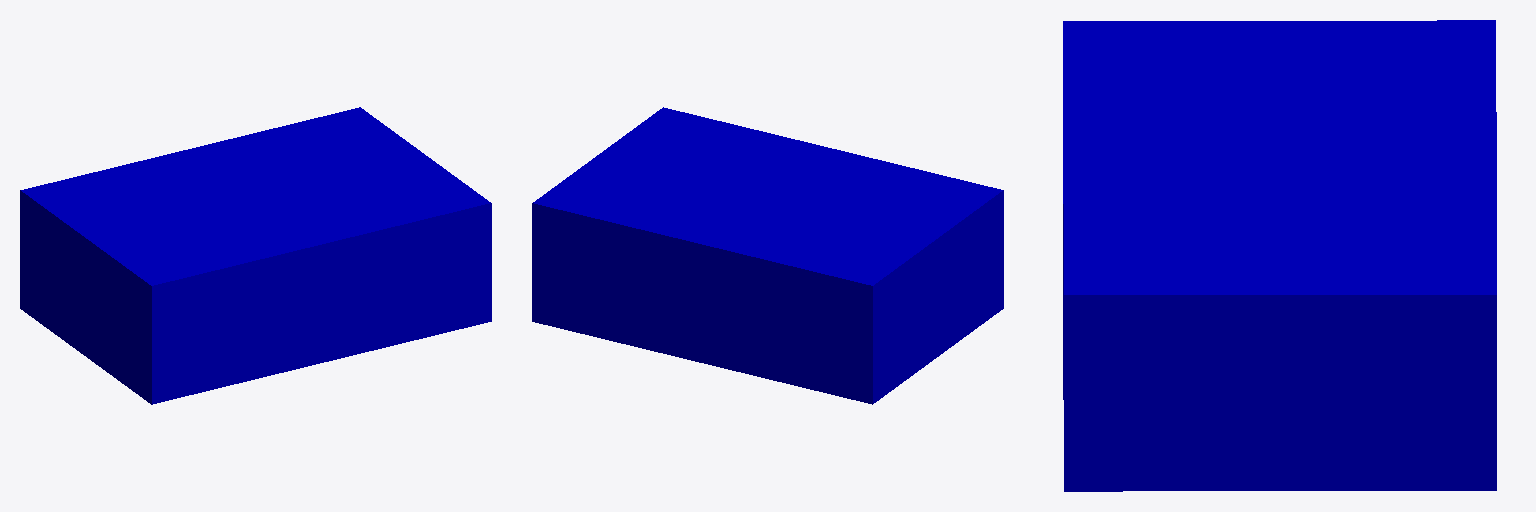
The robot description file, URDF, robot "car_robot":
<?xml version="1.0"?>
<robot name="car_robot">
	<material name="blue">
		<color rgba="0 0 0.8 1"/>
	</material>
	<link name="base_link">
		<visual>
			<geometry>
				<box size="0.2 0.3 0.1"/>
			</geometry>
			<origin rpy="0 0 -1.57" xyz="0 0 0"/>
			<material name="blue"/>
		</visual>
	</link>
</robot>

--- What the picture shows (computed from the rendered views, not written in the file) ---
Views: 3 orthographic renders of the robot side by side, from view 1: azimuth 30°, elevation 25°; view 2: azimuth 150°, elevation 25°; view 3: azimuth 270°, elevation 25°.
Robot: car_robot — 1 links, 0 joints (none); root link base_link; default pose: every joint at zero.
Links seen in each view (by area): view 1: base_link; view 2: base_link; view 3: base_link.
Link boxes in pixels (bbox=[...]): base_link: bbox=[20, 107, 491, 404]; base_link: bbox=[532, 107, 1003, 404]; base_link: bbox=[1063, 20, 1496, 491].
Size in the robot's own frame: 0.3002 by 0.2002 by 0.1 metres.
Geometry: primitives only (box / cylinder / sphere), no mesh files.